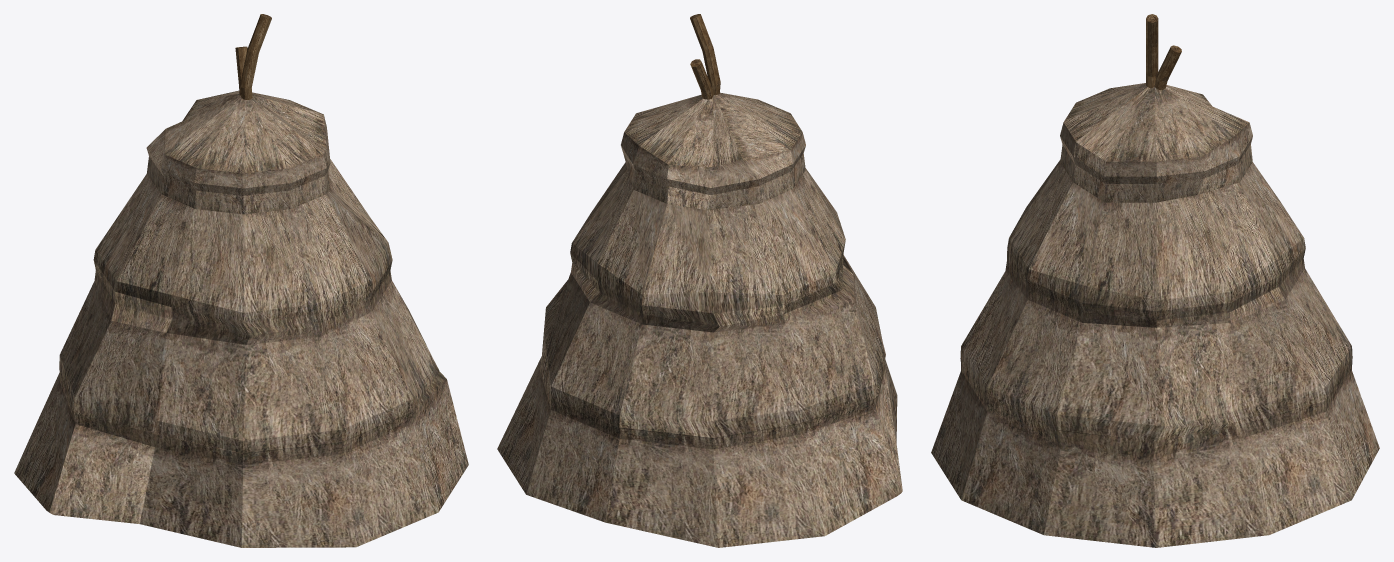
Rendered from v3_haystack.dae.
3 renders of one model, left to right at view 1: azimuth 30°, elevation 25°; view 2: azimuth 150°, elevation 25°; view 3: azimuth 270°, elevation 25°, orthographic. The views are drawn at different scales.
Parts seen in each view (by area): view 1: Material, Material1; view 2: Material, Material1; view 3: Material, Material1.
Part boxes in pixels (x1,y1,x2,y2): Material: [14, 90, 468, 547]; Material1: [235, 14, 271, 99]; Material: [497, 92, 902, 547]; Material1: [690, 14, 720, 99]; Material: [931, 83, 1379, 547]; Material1: [1146, 14, 1181, 90].
Size of the model in its own units: 2.2 by 2.46 by 2.2.
